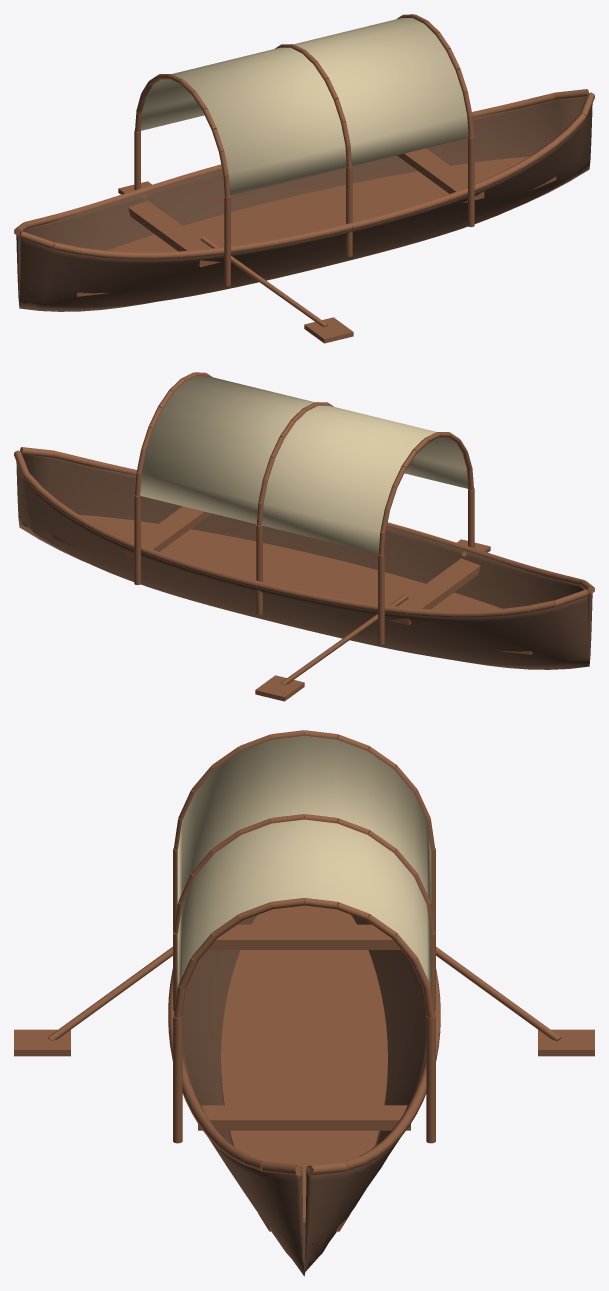
Rendered from covered-lod1.glb.
3 views of the same model, one above another, from view 1: azimuth 30°, elevation 25°; view 2: azimuth 150°, elevation 25°; view 3: azimuth 270°, elevation 25° (orthographic). The views are drawn at different scales.
Parts seen in each view (by area): view 1: covered.hull, covered.cloth, covered.wood; view 2: covered.hull, covered.cloth, covered.wood; view 3: covered.wood, covered.cloth, covered.hull.
Boxes of the visible parts, <box> form: covered.hull: <box>16,91,592,311</box>; covered.cloth: <box>140,18,468,195</box>; covered.wood: <box>14,14,594,343</box>; covered.hull: <box>16,449,592,669</box>; covered.cloth: <box>140,376,468,553</box>; covered.wood: <box>14,372,594,701</box>; covered.wood: <box>14,730,594,1231</box>; covered.cloth: <box>177,735,431,987</box>; covered.hull: <box>182,915,426,1276</box>.
Bounding box in the file's own units: 6.25 × 2.26 × 3.88.
